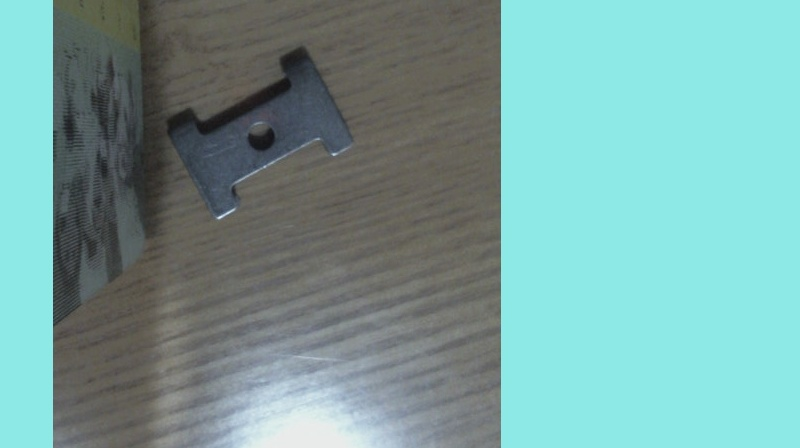O002: (166, 47, 356, 220)
